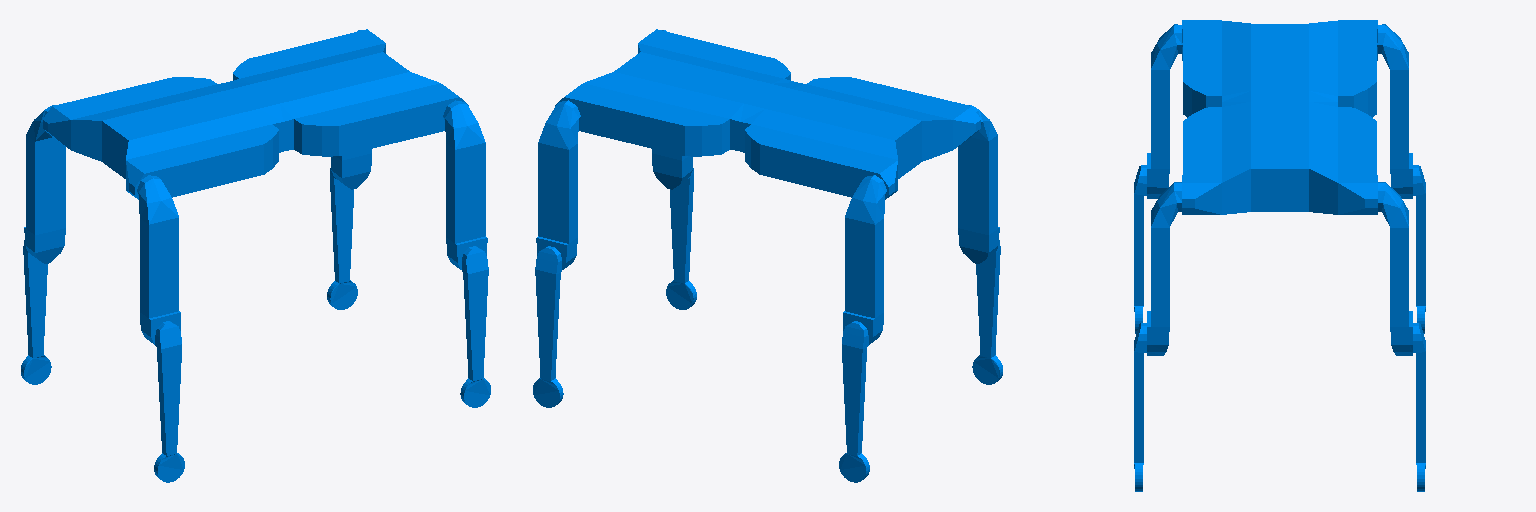
--- Render facts (derived) ---
The picture shows the robot from 3 angles, left to right: view 1: azimuth 30°, elevation 25°; view 2: azimuth 150°, elevation 25°; view 3: azimuth 270°, elevation 25°; orthographic projection.
Robot: brunhilde — 14 links, 13 joints (8 revolute, 5 fixed); root link world; default pose: every joint at zero.
Visible links, largest first — view 1: base_link, FR_UPPER_LEG, HR_UPPER_LEG, HL_UPPER_LEG, FR_LOWER_LEG, HR_LOWER_LEG, HL_LOWER_LEG, FL_LOWER_LEG, FL_UPPER_LEG; view 2: base_link, FL_UPPER_LEG, HL_UPPER_LEG, HR_UPPER_LEG, FL_LOWER_LEG, HL_LOWER_LEG, HR_LOWER_LEG, FR_LOWER_LEG, FR_UPPER_LEG; view 3: base_link, FL_UPPER_LEG, FR_UPPER_LEG, HL_UPPER_LEG, HR_UPPER_LEG, FL_LOWER_LEG, FR_LOWER_LEG, HL_LOWER_LEG, HR_LOWER_LEG.
Link boxes in pixels (x1,y1,x2,y2): base_link: (43, 29, 468, 199); FR_UPPER_LEG: (443, 100, 487, 269); HR_UPPER_LEG: (137, 175, 180, 344); HL_UPPER_LEG: (24, 105, 65, 263); FR_LOWER_LEG: (460, 246, 490, 407); HR_LOWER_LEG: (154, 321, 184, 482); HL_LOWER_LEG: (21, 240, 51, 384); FL_LOWER_LEG: (327, 168, 357, 309); FL_UPPER_LEG: (331, 30, 371, 189); base_link: (555, 29, 980, 199); FL_UPPER_LEG: (536, 100, 580, 269); HL_UPPER_LEG: (843, 175, 886, 344); HR_UPPER_LEG: (958, 105, 999, 263); FL_LOWER_LEG: (533, 246, 563, 407); HL_LOWER_LEG: (839, 321, 869, 482); HR_LOWER_LEG: (972, 240, 1002, 384); FR_LOWER_LEG: (666, 168, 696, 309); FR_UPPER_LEG: (652, 30, 692, 189); base_link: (1182, 20, 1377, 214); FL_UPPER_LEG: (1378, 182, 1412, 355); FR_UPPER_LEG: (1147, 182, 1181, 355); HL_UPPER_LEG: (1377, 24, 1412, 198); HR_UPPER_LEG: (1147, 24, 1182, 198); FL_LOWER_LEG: (1413, 323, 1425, 491); FR_LOWER_LEG: (1134, 323, 1146, 491); HL_LOWER_LEG: (1413, 165, 1425, 333); HR_LOWER_LEG: (1134, 165, 1146, 333).
Size in the robot's own frame: 0.4282 by 0.3039 by 0.3624 metres.
Meshes: 5 distinct files referenced, 9 mesh visuals loaded (5 binary STL).

The robot description file, URDF, robot "brunhilde":
<?xml version="1.0" ?>
<!-- =================================================================================== -->
<!-- |    This document was autogenerated by xacro from resource/xacro/brunhilde.urdf.xacro | -->
<!-- |    EDITING THIS FILE BY HAND IS NOT RECOMMENDED                                 | -->
<!-- =================================================================================== -->
<robot name="brunhilde">
  <material name="petrol">
    <color rgba="0.0 0.59 1.0 1.0"/>
  </material>
  <link name="world"/>
  <joint name="fixed" type="fixed">
    <parent link="world"/>
    <child link="base_link"/>
  </joint>
  <!-- This file is based on: https://atlas.is.localnet/confluence/display/AMDW/Quadruped+URDF+Files -->
  <link name="base_link">
    <visual>
      <origin rpy="0 0 0" xyz="0 0 0"/>
      <geometry>
        <mesh filename="package://brunhilde_description/resource/xacro/meshes/solo_body.stl"/>
      </geometry>
      <material name="petrol"/>
    </visual>
    <collision>
      <origin rpy="0 0 0" xyz="0 0 0"/>
      <geometry>
        <mesh filename="package://brunhilde_description/resource/xacro/meshes/solo_body.stl"/>
      </geometry>
    </collision>
    <inertial>
      <origin rpy="0 0 0" xyz="0 0 0"/>
      <mass value="1.43315091"/>
      <inertia ixx="0.00578574" ixy="0.0" ixz="0.0" iyy="0.01938108" iyz="0.0" izz="0.02476124"/>
    </inertial>
  </link>
  <!-- Joint between the base and the ${prefix} upper leg -->
  <joint name="FL_HFE" type="revolute">
    <parent link="base_link"/>
    <child link="FL_UPPER_LEG"/>
    <limit effort="1000" lower="-10" upper="10" velocity="1000"/>
    <!-- joints rotates around the y-axis -->
    <axis xyz="0 1 0"/>
    <origin rpy="0 0 0" xyz="0.1946 0.1015 0"/>
    <!-- pybullet simulation parameters -->
    <dynamics damping="0.0" friction="0.0"/>
  </joint>
  <link name="FL_UPPER_LEG">
    <!-- Left upper leg inertia -->
    <inertial>
      <mass value="0.14737324"/>
      <origin rpy="0 0 0" xyz="0.00001530 0.01767640 -0.07838230"/>
      <inertia ixx="0.00041540" ixy="0.00000000" ixz="0.00000010" iyy="0.00041637" iyz="-0.00004589" izz="0.00002982"/>
    </inertial>
    <!-- UPPER LEG LINK VISUAL -->
    <visual>
      <origin rpy="0 0 0" xyz="0 0 0"/>
      <geometry>
        <mesh filename="package://brunhilde_description/resource/xacro/meshes/solo_upper_leg_left_side.stl"/>
      </geometry>
      <material name="petrol"/>
    </visual>
    <!-- UPPER LEG LINK COLLISION -->
    <collision>
      <origin rpy="0 0 0" xyz="0 0 0"/>
      <geometry>
        <mesh filename="package://brunhilde_description/resource/xacro/meshes/solo_upper_leg_left_side.stl"/>
      </geometry>
      <material name="petrol"/>
    </collision>
  </link>
  <!-- END UPPER LEG LINK -->
  <!-- KFE: Joint between the upper leg and the lower leg -->
  <joint name="FL_KFE" type="revolute">
    <parent link="FL_UPPER_LEG"/>
    <child link="FL_LOWER_LEG"/>
    <limit effort="1000" lower="-10" upper="10" velocity="1000"/>
    <!-- joints rotates around the y-axis -->
    <axis xyz="0 1 0"/>
    <origin rpy="0 0 0" xyz="0 0.037450000000000004 -0.16"/>
    <!-- pybullet simulation parameters -->
    <dynamics damping="0.0" friction="0.0"/>
  </joint>
  <link name="FL_LOWER_LEG">
    <!-- Left lower leg inertia -->
    <inertial>
      <mass value="0.02318294"/>
      <origin rpy="0 0 0" xyz="0.00000000 0.00776716 -0.07003876"/>
      <inertia ixx="0.00008508" ixy="0.00000000" ixz="0.00000000" iyy="0.00008580" iyz="-0.00000200" izz="0.00000139"/>
    </inertial>
    <!-- LOWER LEG LINK VISUAL -->
    <visual>
      <origin rpy="0 0 0" xyz="0 0 0"/>
      <geometry>
        <mesh filename="package://brunhilde_description/resource/xacro/meshes/solo_lower_leg_v2_left_side.stl"/>
      </geometry>
      <material name="petrol"/>
    </visual>
    <!-- LOWER LEG LINK COLLISION -->
    <collision>
      <origin rpy="0 0 0" xyz="0 0 0"/>
      <geometry>
        <mesh filename="package://brunhilde_description/resource/xacro/meshes/solo_lower_leg_v2_left_side.stl"/>
      </geometry>
      <material name="petrol"/>
    </collision>
  </link>
  <!-- END LOWER LEG LINK -->
  <!-- Joint between the lower leg and the ankle,
         this is only a dummy joint such that we
         can assign coordinate frames to foot-->
  <joint name="FL_ANKLE" type="fixed">
    <parent link="FL_LOWER_LEG"/>
    <child link="FL_FOOT"/>
    <origin rpy="0 0 0" xyz="0 0.009000000000000001 -0.16"/>
    <!-- Limits -->
    <limit effort="1000" lower="-10" upper="10" velocity="1000"/>
  </joint>
  <link name="FL_FOOT">
    <!-- FOOT INERTIAL -->
    <inertial>
      <origin rpy="0 0 0" xyz="0 0 0"/>
      <mass value="0.0"/>
      <inertia ixx="0.0" ixy="0.0" ixz="0.0" iyy="0.0" iyz="0.0" izz="0.0"/>
    </inertial>
  </link>
  <!-- END FOOT LINK -->
  <!-- Joint between the base and the ${prefix} upper leg -->
  <joint name="FR_HFE" type="revolute">
    <parent link="base_link"/>
    <child link="FR_UPPER_LEG"/>
    <limit effort="1000" lower="-10" upper="10" velocity="1000"/>
    <!-- joints rotates around the y-axis -->
    <axis xyz="0 1 0"/>
    <origin rpy="0 0 0" xyz="0.1946 -0.1015 0"/>
    <!-- pybullet simulation parameters -->
    <dynamics damping="0.0" friction="0.0"/>
  </joint>
  <link name="FR_UPPER_LEG">
    <!-- Right upper leg inertia -->
    <inertial>
      <mass value="0.14737324"/>
      <origin rpy="0 0 0" xyz="-0.00001530 -0.01767640 -0.07838230"/>
      <inertia ixx="0.00041540" ixy="0.00000000" ixz="-0.00000010" iyy="0.00041637" iyz="0.00004589" izz="0.00002982"/>
    </inertial>
    <!-- UPPER LEG LINK VISUAL -->
    <visual>
      <origin rpy="0 0 0" xyz="0 0 0"/>
      <geometry>
        <mesh filename="package://brunhilde_description/resource/xacro/meshes/solo_upper_leg_right_side.stl"/>
      </geometry>
      <material name="petrol"/>
    </visual>
    <!-- UPPER LEG LINK COLLISION -->
    <collision>
      <origin rpy="0 0 0" xyz="0 0 0"/>
      <geometry>
        <mesh filename="package://brunhilde_description/resource/xacro/meshes/solo_upper_leg_right_side.stl"/>
      </geometry>
      <material name="petrol"/>
    </collision>
  </link>
  <!-- END UPPER LEG LINK -->
  <!-- KFE: Joint between the upper leg and the lower leg -->
  <joint name="FR_KFE" type="revolute">
    <parent link="FR_UPPER_LEG"/>
    <child link="FR_LOWER_LEG"/>
    <limit effort="1000" lower="-10" upper="10" velocity="1000"/>
    <!-- joints rotates around the y-axis -->
    <axis xyz="0 1 0"/>
    <origin rpy="0 0 0" xyz="0 -0.037450000000000004 -0.16"/>
    <!-- pybullet simulation parameters -->
    <dynamics damping="0.0" friction="0.0"/>
  </joint>
  <link name="FR_LOWER_LEG">
    <!-- Right lower leg inertia -->
    <inertial>
      <mass value="0.02318294"/>
      <origin rpy="0 0 0" xyz="0.00000000 -0.00776716 -0.07003876"/>
      <inertia ixx="0.00008508" ixy="0.00000000" ixz="0.00000000" iyy="0.00008580" iyz="0.00000200" izz="0.00000139"/>
    </inertial>
    <!-- LOWER LEG LINK VISUAL -->
    <visual>
      <origin rpy="0 0 0" xyz="0 0 0"/>
      <geometry>
        <mesh filename="package://brunhilde_description/resource/xacro/meshes/solo_lower_leg_v2_right_side.stl"/>
      </geometry>
      <material name="petrol"/>
    </visual>
    <!-- LOWER LEG LINK COLLISION -->
    <collision>
      <origin rpy="0 0 0" xyz="0 0 0"/>
      <geometry>
        <mesh filename="package://brunhilde_description/resource/xacro/meshes/solo_lower_leg_v2_right_side.stl"/>
      </geometry>
      <material name="petrol"/>
    </collision>
  </link>
  <!-- END LOWER LEG LINK -->
  <!-- Joint between the lower leg and the ankle,
         this is only a dummy joint such that we
         can assign coordinate frames to foot-->
  <joint name="FR_ANKLE" type="fixed">
    <parent link="FR_LOWER_LEG"/>
    <child link="FR_FOOT"/>
    <origin rpy="0 0 0" xyz="0 -0.009000000000000001 -0.16"/>
    <!-- Limits -->
    <limit effort="1000" lower="-10" upper="10" velocity="1000"/>
  </joint>
  <link name="FR_FOOT">
    <!-- FOOT INERTIAL -->
    <inertial>
      <origin rpy="0 0 0" xyz="0 0 0"/>
      <mass value="0.0"/>
      <inertia ixx="0.0" ixy="0.0" ixz="0.0" iyy="0.0" iyz="0.0" izz="0.0"/>
    </inertial>
  </link>
  <!-- END FOOT LINK -->
  <!-- Joint between the base and the ${prefix} upper leg -->
  <joint name="HL_HFE" type="revolute">
    <parent link="base_link"/>
    <child link="HL_UPPER_LEG"/>
    <limit effort="1000" lower="-10" upper="10" velocity="1000"/>
    <!-- joints rotates around the y-axis -->
    <axis xyz="0 1 0"/>
    <origin rpy="0 0 0" xyz="-0.1946 0.1015 0"/>
    <!-- pybullet simulation parameters -->
    <dynamics damping="0.0" friction="0.0"/>
  </joint>
  <link name="HL_UPPER_LEG">
    <!-- Left upper leg inertia -->
    <inertial>
      <mass value="0.14737324"/>
      <origin rpy="0 0 0" xyz="0.00001530 0.01767640 -0.07838230"/>
      <inertia ixx="0.00041540" ixy="0.00000000" ixz="0.00000010" iyy="0.00041637" iyz="-0.00004589" izz="0.00002982"/>
    </inertial>
    <!-- UPPER LEG LINK VISUAL -->
    <visual>
      <origin rpy="0 0 0" xyz="0 0 0"/>
      <geometry>
        <mesh filename="package://brunhilde_description/resource/xacro/meshes/solo_upper_leg_left_side.stl"/>
      </geometry>
      <material name="petrol"/>
    </visual>
    <!-- UPPER LEG LINK COLLISION -->
    <collision>
      <origin rpy="0 0 0" xyz="0 0 0"/>
      <geometry>
        <mesh filename="package://brunhilde_description/resource/xacro/meshes/solo_upper_leg_left_side.stl"/>
      </geometry>
      <material name="petrol"/>
    </collision>
  </link>
  <!-- END UPPER LEG LINK -->
  <!-- KFE: Joint between the upper leg and the lower leg -->
  <joint name="HL_KFE" type="revolute">
    <parent link="HL_UPPER_LEG"/>
    <child link="HL_LOWER_LEG"/>
    <limit effort="1000" lower="-10" upper="10" velocity="1000"/>
    <!-- joints rotates around the y-axis -->
    <axis xyz="0 1 0"/>
    <origin rpy="0 0 0" xyz="0 0.037450000000000004 -0.16"/>
    <!-- pybullet simulation parameters -->
    <dynamics damping="0.0" friction="0.0"/>
  </joint>
  <link name="HL_LOWER_LEG">
    <!-- Left lower leg inertia -->
    <inertial>
      <mass value="0.02318294"/>
      <origin rpy="0 0 0" xyz="0.00000000 0.00776716 -0.07003876"/>
      <inertia ixx="0.00008508" ixy="0.00000000" ixz="0.00000000" iyy="0.00008580" iyz="-0.00000200" izz="0.00000139"/>
    </inertial>
    <!-- LOWER LEG LINK VISUAL -->
    <visual>
      <origin rpy="0 0 0" xyz="0 0 0"/>
      <geometry>
        <mesh filename="package://brunhilde_description/resource/xacro/meshes/solo_lower_leg_v2_left_side.stl"/>
      </geometry>
      <material name="petrol"/>
    </visual>
    <!-- LOWER LEG LINK COLLISION -->
    <collision>
      <origin rpy="0 0 0" xyz="0 0 0"/>
      <geometry>
        <mesh filename="package://brunhilde_description/resource/xacro/meshes/solo_lower_leg_v2_left_side.stl"/>
      </geometry>
      <material name="petrol"/>
    </collision>
  </link>
  <!-- END LOWER LEG LINK -->
  <!-- Joint between the lower leg and the ankle,
         this is only a dummy joint such that we
         can assign coordinate frames to foot-->
  <joint name="HL_ANKLE" type="fixed">
    <parent link="HL_LOWER_LEG"/>
    <child link="HL_FOOT"/>
    <origin rpy="0 0 0" xyz="0 0.009000000000000001 -0.16"/>
    <!-- Limits -->
    <limit effort="1000" lower="-10" upper="10" velocity="1000"/>
  </joint>
  <link name="HL_FOOT">
    <!-- FOOT INERTIAL -->
    <inertial>
      <origin rpy="0 0 0" xyz="0 0 0"/>
      <mass value="0.0"/>
      <inertia ixx="0.0" ixy="0.0" ixz="0.0" iyy="0.0" iyz="0.0" izz="0.0"/>
    </inertial>
  </link>
  <!-- END FOOT LINK -->
  <!-- Joint between the base and the ${prefix} upper leg -->
  <joint name="HR_HFE" type="revolute">
    <parent link="base_link"/>
    <child link="HR_UPPER_LEG"/>
    <limit effort="1000" lower="-10" upper="10" velocity="1000"/>
    <!-- joints rotates around the y-axis -->
    <axis xyz="0 1 0"/>
    <origin rpy="0 0 0" xyz="-0.1946 -0.1015 0"/>
    <!-- pybullet simulation parameters -->
    <dynamics damping="0.0" friction="0.0"/>
  </joint>
  <link name="HR_UPPER_LEG">
    <!-- Right upper leg inertia -->
    <inertial>
      <mass value="0.14737324"/>
      <origin rpy="0 0 0" xyz="-0.00001530 -0.01767640 -0.07838230"/>
      <inertia ixx="0.00041540" ixy="0.00000000" ixz="-0.00000010" iyy="0.00041637" iyz="0.00004589" izz="0.00002982"/>
    </inertial>
    <!-- UPPER LEG LINK VISUAL -->
    <visual>
      <origin rpy="0 0 0" xyz="0 0 0"/>
      <geometry>
        <mesh filename="package://brunhilde_description/resource/xacro/meshes/solo_upper_leg_right_side.stl"/>
      </geometry>
      <material name="petrol"/>
    </visual>
    <!-- UPPER LEG LINK COLLISION -->
    <collision>
      <origin rpy="0 0 0" xyz="0 0 0"/>
      <geometry>
        <mesh filename="package://brunhilde_description/resource/xacro/meshes/solo_upper_leg_right_side.stl"/>
      </geometry>
      <material name="petrol"/>
    </collision>
  </link>
  <!-- END UPPER LEG LINK -->
  <!-- KFE: Joint between the upper leg and the lower leg -->
  <joint name="HR_KFE" type="revolute">
    <parent link="HR_UPPER_LEG"/>
    <child link="HR_LOWER_LEG"/>
    <limit effort="1000" lower="-10" upper="10" velocity="1000"/>
    <!-- joints rotates around the y-axis -->
    <axis xyz="0 1 0"/>
    <origin rpy="0 0 0" xyz="0 -0.037450000000000004 -0.16"/>
    <!-- pybullet simulation parameters -->
    <dynamics damping="0.0" friction="0.0"/>
  </joint>
  <link name="HR_LOWER_LEG">
    <!-- Right lower leg inertia -->
    <inertial>
      <mass value="0.02318294"/>
      <origin rpy="0 0 0" xyz="0.00000000 -0.00776716 -0.07003876"/>
      <inertia ixx="0.00008508" ixy="0.00000000" ixz="0.00000000" iyy="0.00008580" iyz="0.00000200" izz="0.00000139"/>
    </inertial>
    <!-- LOWER LEG LINK VISUAL -->
    <visual>
      <origin rpy="0 0 0" xyz="0 0 0"/>
      <geometry>
        <mesh filename="package://brunhilde_description/resource/xacro/meshes/solo_lower_leg_v2_right_side.stl"/>
      </geometry>
      <material name="petrol"/>
    </visual>
    <!-- LOWER LEG LINK COLLISION -->
    <collision>
      <origin rpy="0 0 0" xyz="0 0 0"/>
      <geometry>
        <mesh filename="package://brunhilde_description/resource/xacro/meshes/solo_lower_leg_v2_right_side.stl"/>
      </geometry>
      <material name="petrol"/>
    </collision>
  </link>
  <!-- END LOWER LEG LINK -->
  <!-- Joint between the lower leg and the ankle,
         this is only a dummy joint such that we
         can assign coordinate frames to foot-->
  <joint name="HR_ANKLE" type="fixed">
    <parent link="HR_LOWER_LEG"/>
    <child link="HR_FOOT"/>
    <origin rpy="0 0 0" xyz="0 -0.009000000000000001 -0.16"/>
    <!-- Limits -->
    <limit effort="1000" lower="-10" upper="10" velocity="1000"/>
  </joint>
  <link name="HR_FOOT">
    <!-- FOOT INERTIAL -->
    <inertial>
      <origin rpy="0 0 0" xyz="0 0 0"/>
      <mass value="0.0"/>
      <inertia ixx="0.0" ixy="0.0" ixz="0.0" iyy="0.0" iyz="0.0" izz="0.0"/>
    </inertial>
  </link>
  <!-- END FOOT LINK -->
  <gazebo reference="base_link">
    <material>
      <ambient>1 0 0 1</ambient>
      <diffuse>1 0 0 1</diffuse>
      <specular>0.1 0.1 0.1 1</specular>
    </material>
  </gazebo>
  <gazebo reference="FL_FOOT">
    <material>
      <ambient>1 0 0 1</ambient>
      <diffuse>1 0 0 1</diffuse>
      <specular>0.1 0.1 0.1 1</specular>
    </material>
  </gazebo>
  <gazebo reference="FL_LOWER_LEG">
    <material>
      <ambient>1 0 0 1</ambient>
      <diffuse>1 0 0 1</diffuse>
      <specular>0.1 0.1 0.1 1</specular>
    </material>
  </gazebo>
  <gazebo reference="FL_UPPER_LEG">
    <material>
      <ambient>1 0 0 1</ambient>
      <diffuse>1 0 0 1</diffuse>
      <specular>0.1 0.1 0.1 1</specular>
    </material>
  </gazebo>
  <gazebo reference="FR_FOOT">
    <material>
      <ambient>1 0 0 1</ambient>
      <diffuse>1 0 0 1</diffuse>
      <specular>0.1 0.1 0.1 1</specular>
    </material>
  </gazebo>
  <gazebo reference="FR_LOWER_LEG">
    <material>
      <ambient>1 0 0 1</ambient>
      <diffuse>1 0 0 1</diffuse>
      <specular>0.1 0.1 0.1 1</specular>
    </material>
  </gazebo>
  <gazebo reference="FR_UPPER_LEG">
    <material>
      <ambient>1 0 0 1</ambient>
      <diffuse>1 0 0 1</diffuse>
      <specular>0.1 0.1 0.1 1</specular>
    </material>
  </gazebo>
  <gazebo reference="HL_FOOT">
    <material>
      <ambient>1 0 0 1</ambient>
      <diffuse>1 0 0 1</diffuse>
      <specular>0.1 0.1 0.1 1</specular>
    </material>
  </gazebo>
  <gazebo reference="HL_LOWER_LEG">
    <material>
      <ambient>1 0 0 1</ambient>
      <diffuse>1 0 0 1</diffuse>
      <specular>0.1 0.1 0.1 1</specular>
    </material>
  </gazebo>
  <gazebo reference="HL_UPPER_LEG">
    <material>
      <ambient>1 0 0 1</ambient>
      <diffuse>1 0 0 1</diffuse>
      <specular>0.1 0.1 0.1 1</specular>
    </material>
  </gazebo>
  <gazebo reference="HR_FOOT">
    <material>
      <ambient>1 0 0 1</ambient>
      <diffuse>1 0 0 1</diffuse>
      <specular>0.1 0.1 0.1 1</specular>
    </material>
  </gazebo>
  <gazebo reference="HR_LOWER_LEG">
    <material>
      <ambient>1 0 0 1</ambient>
      <diffuse>1 0 0 1</diffuse>
      <specular>0.1 0.1 0.1 1</specular>
    </material>
  </gazebo>
  <gazebo reference="HR_UPPER_LEG">
    <material>
      <ambient>1 0 0 1</ambient>
      <diffuse>1 0 0 1</diffuse>
      <specular>0.1 0.1 0.1 1</specular>
    </material>
  </gazebo>
  <!--<plugin filename="gz-sim-joint-state-publisher-system"
          name="gz::sim::systems::JointStatePublisher">
    <joint_name>FL_HFE</joint_name>
    <joint_name>FL_KFE</joint_name>
    <joint_name>FR_HFE</joint_name>
    <joint_name>FR_KFE</joint_name>
    <joint_name>HL_HFE</joint_name>
    <joint_name>HL_KFE</joint_name>
    <joint_name>HR_HFE</joint_name>
    <joint_name>HR_KFE</joint_name>
  </plugin>-->
  <ros2_control name="brunhilde" type="system">
    <hardware>
      <plugin>gz_ros2_control/GazeboSimSystem</plugin>
      <!--<xacro:if value="${use_mock_hardware}">
        <plugin>mock_components/GenericSystem</plugin>
        <param name="calculate_dynamics">true</param>
				<param name="state_following_offset">0.0</param>
			</xacro:if>-->
    </hardware>
    <joint name="FL_HFE">
      <command_interface name="position">
        <param name="min">-0.5</param>
        <param name="max">0.5</param>
      </command_interface>
      <command_interface name="velocity">
        <param name="min">-1</param>
        <param name="max">1</param>
      </command_interface>
      <command_interface name="effort">
        <param name="min">-1</param>
        <param name="max">1</param>
      </command_interface>
      <command_interface name="gain_kp">
        <param name="min">-1000</param>
        <param name="max">1000</param>
      </command_interface>
      <command_interface name="gain_kd">
        <param name="min">-1000</param>
        <param name="max">1000</param>
      </command_interface>
      <state_interface name="position"/>
      <state_interface name="velocity"/>
      <state_interface name="effort"/>
      <state_interface name="gain_kp"/>
      <state_interface name="gain_kd"/>
      <param name="motor_number">0</param>
      <param name="gear_ratio">9.</param>
      <param name="motor_constant">0.025</param>
      <param name="max_current">12.</param>
      <param name="max_joint_velocity">80.</param>
      <param name="safety_damping">0.5</param>
      <param name="motor_reversed_polarity">true</param>
      <param name="position_offset">0.238</param>
    </joint>
    <joint name="FL_KFE">
      <command_interface name="position">
        <param name="min">-0.5</param>
        <param name="max">0.5</param>
      </command_interface>
      <command_interface name="velocity">
        <param name="min">-1</param>
        <param name="max">1</param>
      </command_interface>
      <command_interface name="effort">
        <param name="min">-1</param>
        <param name="max">1</param>
      </command_interface>
      <command_interface name="gain_kp">
        <param name="min">-1000</param>
        <param name="max">1000</param>
      </command_interface>
      <command_interface name="gain_kd">
        <param name="min">-1000</param>
        <param name="max">1000</param>
      </command_interface>
      <state_interface name="position"/>
      <state_interface name="velocity"/>
      <state_interface name="effort"/>
      <state_interface name="gain_kp"/>
      <state_interface name="gain_kd"/>
      <param name="motor_number">0</param>
      <param name="gear_ratio">9.</param>
      <param name="motor_constant">0.025</param>
      <param name="max_current">12.</param>
      <param name="max_joint_velocity">80.</param>
      <param name="safety_damping">0.5</param>
      <param name="motor_reversed_polarity">true</param>
      <param name="position_offset">0.238</param>
    </joint>
    <joint name="FR_HFE">
      <command_interface name="position">
        <param name="min">-0.5</param>
        <param name="max">0.5</param>
      </command_interface>
      <command_interface name="velocity">
        <param name="min">-1</param>
        <param name="max">1</param>
      </command_interface>
      <command_interface name="effort">
        <param name="min">-1</param>
        <param name="max">1</param>
      </command_interface>
      <command_interface name="gain_kp">
        <param name="min">-1000</param>
        <param name="max">1000</param>
      </command_interface>
      <command_interface name="gain_kd">
        <param name="min">-1000</param>
        <param name="max">1000</param>
      </command_interface>
      <state_interface name="position"/>
      <state_interface name="velocity"/>
      <state_interface name="effort"/>
      <state_interface name="gain_kp"/>
      <state_interface name="gain_kd"/>
      <param name="motor_number">0</param>
      <param name="gear_ratio">9.</param>
      <param name="motor_constant">0.025</param>
      <param name="max_current">12.</param>
      <param name="max_joint_velocity">80.</param>
      <param name="safety_damping">0.5</param>
      <param name="motor_reversed_polarity">true</param>
      <param name="position_offset">0.238</param>
    </joint>
    <joint name="FR_KFE">
      <command_interface name="position">
        <param name="min">-0.5</param>
        <param name="max">0.5</param>
      </command_interface>
      <command_interface name="velocity">
        <param name="min">-1</param>
        <param name="max">1</param>
      </command_interface>
      <command_interface name="effort">
        <param name="min">-1</param>
        <param name="max">1</param>
      </command_interface>
      <command_interface name="gain_kp">
        <param name="min">-1000</param>
        <param name="max">1000</param>
      </command_interface>
      <command_interface name="gain_kd">
        <param name="min">-1000</param>
        <param name="max">1000</param>
      </command_interface>
      <state_interface name="position"/>
      <state_interface name="velocity"/>
      <state_interface name="effort"/>
      <state_interface name="gain_kp"/>
      <state_interface name="gain_kd"/>
      <param name="motor_number">0</param>
      <param name="gear_ratio">9.</param>
      <param name="motor_constant">0.025</param>
      <param name="max_current">12.</param>
      <param name="max_joint_velocity">80.</param>
      <param name="safety_damping">0.5</param>
      <param name="motor_reversed_polarity">true</param>
      <param name="position_offset">0.238</param>
    </joint>
    <joint name="HL_HFE">
      <command_interface name="position">
        <param name="min">-0.5</param>
        <param name="max">0.5</param>
      </command_interface>
      <command_interface name="velocity">
        <param name="min">-1</param>
        <param name="max">1</param>
      </command_interface>
      <command_interface name="effort">
        <param name="min">-1</param>
        <param name="max">1</param>
      </command_interface>
      <command_interface name="gain_kp">
        <param name="min">-1000</param>
        <param name="max">1000</param>
      </command_interface>
      <command_interface name="gain_kd">
        <param name="min">-1000</param>
        <param name="max">1000</param>
      </command_interface>
      <state_interface name="position"/>
      <state_interface name="velocity"/>
      <state_interface name="effort"/>
      <state_interface name="gain_kp"/>
      <state_interface name="gain_kd"/>
      <param name="motor_number">0</param>
      <param name="gear_ratio">9.</param>
      <param name="motor_constant">0.025</param>
      <param name="max_current">12.</param>
      <param name="max_joint_velocity">80.</param>
      <param name="safety_damping">0.5</param>
      <param name="motor_reversed_polarity">true</param>
      <param name="position_offset">0.238</param>
    </joint>
    <joint name="HL_KFE">
      <command_interface name="position">
        <param name="min">-0.5</param>
        <param name="max">0.5</param>
      </command_interface>
      <command_interface name="velocity">
        <param name="min">-1</param>
        <param name="max">1</param>
      </command_interface>
      <command_interface name="effort">
        <param name="min">-1</param>
        <param name="max">1</param>
      </command_interface>
      <command_interface name="gain_kp">
        <param name="min">-1000</param>
        <param name="max">1000</param>
      </command_interface>
      <command_interface name="gain_kd">
        <param name="min">-1000</param>
        <param name="max">1000</param>
      </command_interface>
      <state_interface name="position"/>
      <state_interface name="velocity"/>
      <state_interface name="effort"/>
      <state_interface name="gain_kp"/>
      <state_interface name="gain_kd"/>
      <param name="motor_number">0</param>
      <param name="gear_ratio">9.</param>
      <param name="motor_constant">0.025</param>
      <param name="max_current">12.</param>
      <param name="max_joint_velocity">80.</param>
      <param name="safety_damping">0.5</param>
      <param name="motor_reversed_polarity">true</param>
      <param name="position_offset">0.238</param>
    </joint>
    <joint name="HR_HFE">
      <command_interface name="position">
        <param name="min">-0.5</param>
        <param name="max">0.5</param>
      </command_interface>
      <command_interface name="velocity">
        <param name="min">-1</param>
        <param name="max">1</param>
      </command_interface>
      <command_interface name="effort">
        <param name="min">-1</param>
        <param name="max">1</param>
      </command_interface>
      <command_interface name="gain_kp">
        <param name="min">-1000</param>
        <param name="max">1000</param>
      </command_interface>
      <command_interface name="gain_kd">
        <param name="min">-1000</param>
        <param name="max">1000</param>
      </command_interface>
      <state_interface name="position"/>
      <state_interface name="velocity"/>
      <state_interface name="effort"/>
      <state_interface name="gain_kp"/>
      <state_interface name="gain_kd"/>
      <param name="motor_number">0</param>
      <param name="gear_ratio">9.</param>
      <param name="motor_constant">0.025</param>
      <param name="max_current">12.</param>
      <param name="max_joint_velocity">80.</param>
      <param name="safety_damping">0.5</param>
      <param name="motor_reversed_polarity">true</param>
      <param name="position_offset">0.238</param>
    </joint>
    <joint name="HR_KFE">
      <command_interface name="position">
        <param name="min">-0.5</param>
        <param name="max">0.5</param>
      </command_interface>
      <command_interface name="velocity">
        <param name="min">-1</param>
        <param name="max">1</param>
      </command_interface>
      <command_interface name="effort">
        <param name="min">-1</param>
        <param name="max">1</param>
      </command_interface>
      <command_interface name="gain_kp">
        <param name="min">-1000</param>
        <param name="max">1000</param>
      </command_interface>
      <command_interface name="gain_kd">
        <param name="min">-1000</param>
        <param name="max">1000</param>
      </command_interface>
      <state_interface name="position"/>
      <state_interface name="velocity"/>
      <state_interface name="effort"/>
      <state_interface name="gain_kp"/>
      <state_interface name="gain_kd"/>
      <param name="motor_number">0</param>
      <param name="gear_ratio">9.</param>
      <param name="motor_constant">0.025</param>
      <param name="max_current">12.</param>
      <param name="max_joint_velocity">80.</param>
      <param name="safety_damping">0.5</param>
      <param name="motor_reversed_polarity">true</param>
      <param name="position_offset">0.238</param>
    </joint>
  </ros2_control>
  <gazebo>
    <plugin filename="libgz_ros2_control-system.so" name="gz_ros2_control::GazeboSimROS2ControlPlugin">
      <robot_param>robot_description</robot_param>
      <robot_param_node>robot_state_publisher</robot_param_node>
      <parameters>[local-path]/install/brunhilde_control/share/brunhilde_control/config/ros2_control.yaml</parameters>
    </plugin>
  </gazebo>
</robot>
